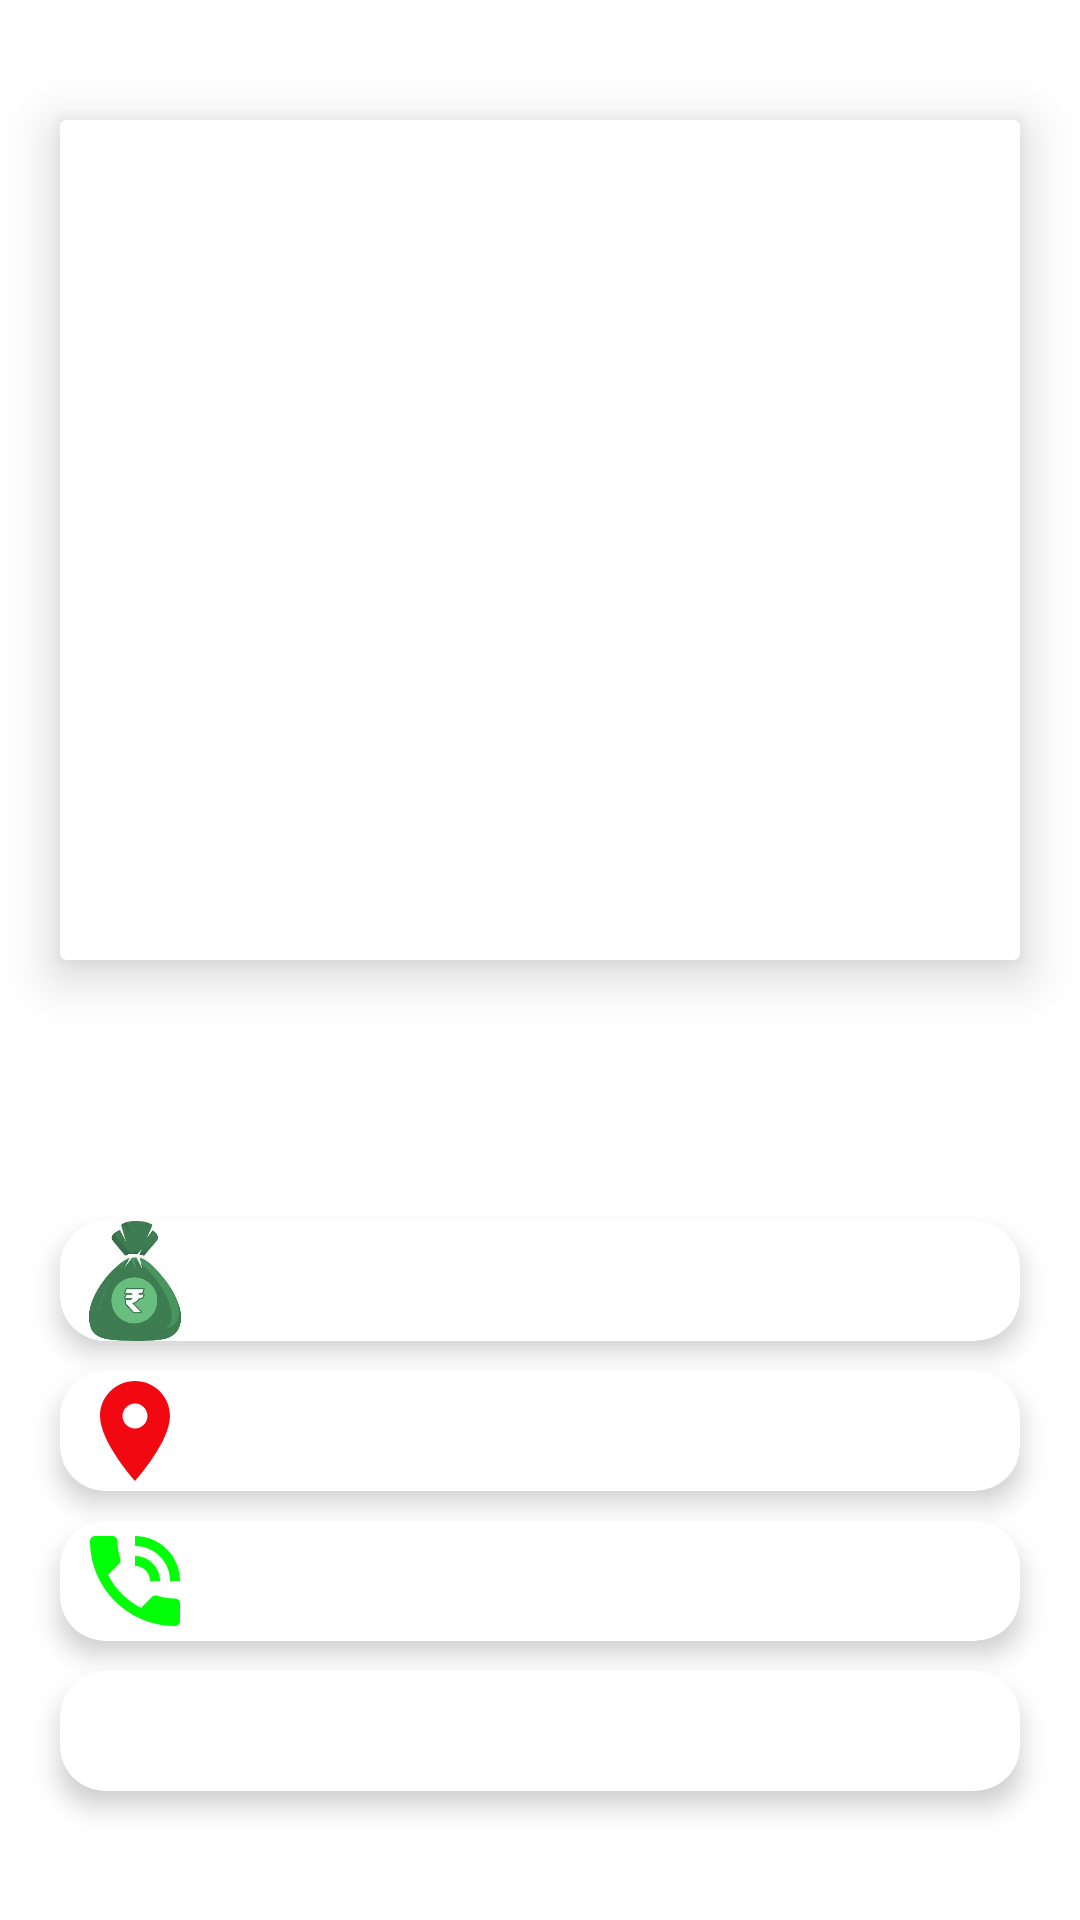

Icons on this 1080px x 1920px Android screen, each with the point to tap as (x=x, y=y):
phone: (x=135, y=1581)
price: (x=121, y=1281)
